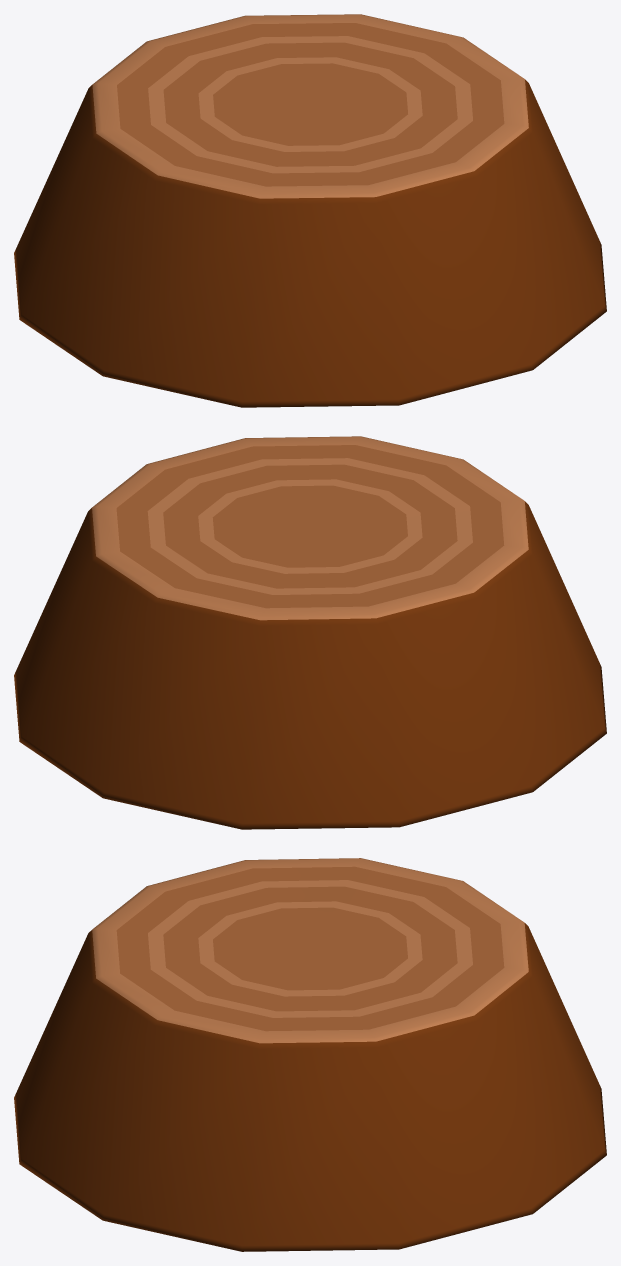
The model's file is tree_cut.fbx.
The picture shows the model from 3 angles, top to bottom: view 1: azimuth 30°, elevation 25°; view 2: azimuth 150°, elevation 25°; view 3: azimuth 270°, elevation 25°; orthographic projection.
Parts seen in each view (by area): view 1: tree_cut; view 2: tree_cut; view 3: tree_cut.
Boxes of the visible parts, x1,y1,x2,y2 form: tree_cut: [14, 14, 606, 407]; tree_cut: [14, 436, 606, 829]; tree_cut: [14, 858, 606, 1251].
Size of the model in its own units: 5.75 by 1.91 by 5.76.
